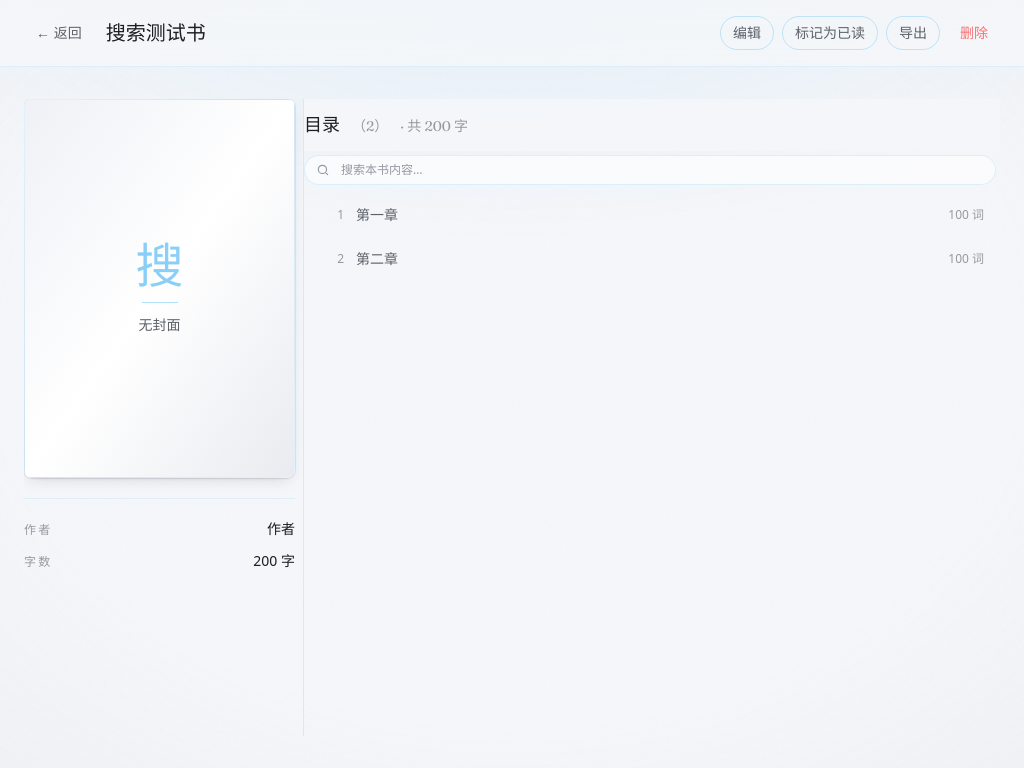
Scenario: DetailPage 内容搜索(按章节分组) › 章一行:显示命中数,折叠时只给一条预览,展开看全部
Expected: the link "第一章" is shown, [356, 206, 398, 224]
Type "殷萱儿" into the search field with placeholder "搜索本书内容…".
click(650, 170); type("殷萱儿")  # box [304, 155, 996, 185]
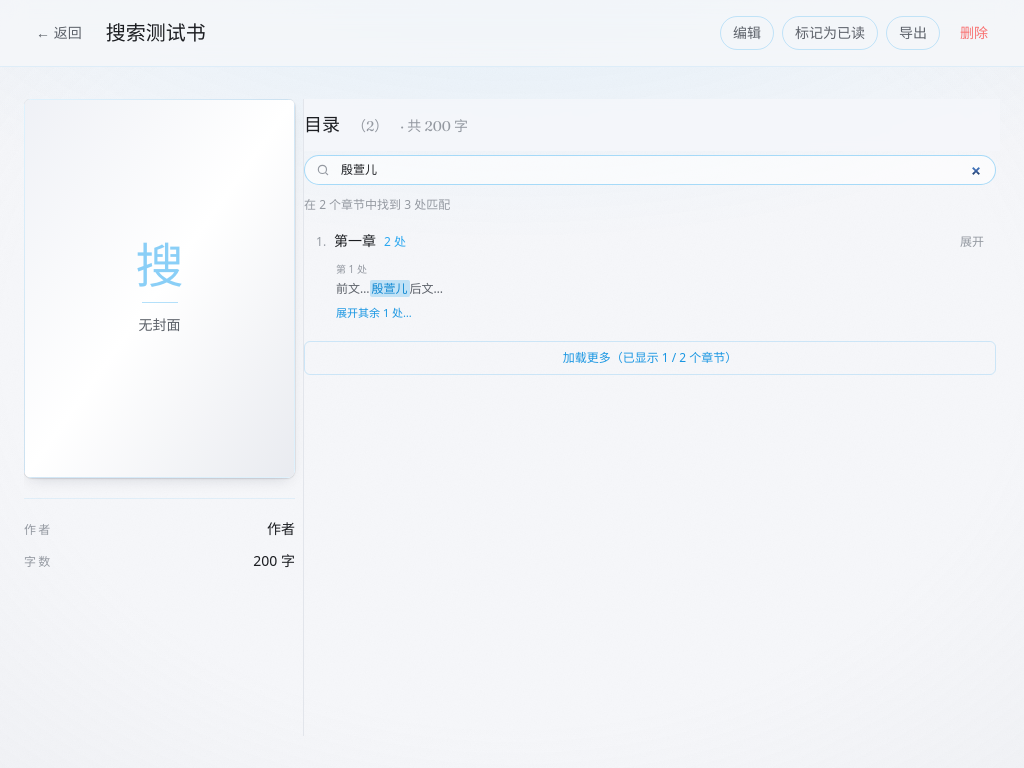
Expected: the text "在 2 个章节中找到 3 处匹配" is shown, [304, 196, 450, 213]
Expected: the text "2 处" is shown, [384, 234, 406, 250]
Expected: the text "第 1 处" is shown, [336, 262, 367, 276]
展开:两次出现都列出
Click the button "1. 第一章 2 处 展开".
click(355, 241)  # box [316, 231, 984, 251]
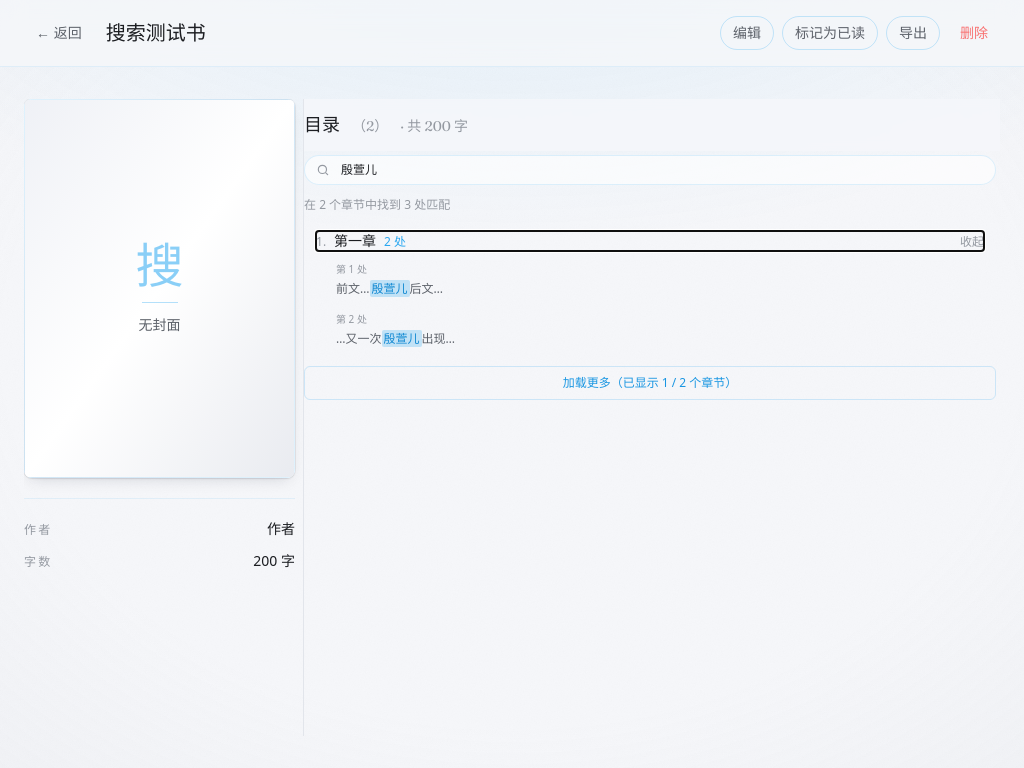
Expected: the text "第 2 处" is shown, [336, 312, 367, 326]
Expected: the text "收起" is shown, [960, 234, 984, 250]
